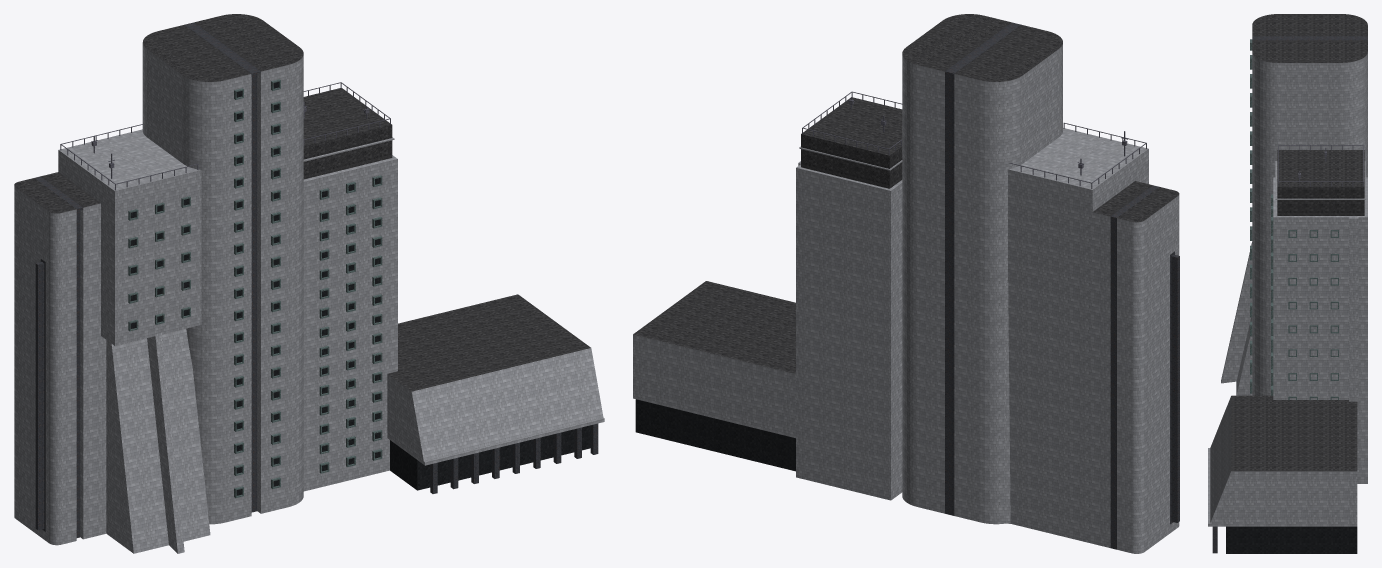
File: Edificio_Brutalista.fbx
3 views of the same model, side by side, from view 1: azimuth 30°, elevation 25°; view 2: azimuth 150°, elevation 25°; view 3: azimuth 270°, elevation 25° (orthographic). The views are drawn at different scales.
Parts seen in each view (by area): view 1: Edificio_Brutalista; view 2: Edificio_Brutalista; view 3: Edificio_Brutalista.
Boxes of the visible parts, <box> form: Edificio_Brutalista: <box>14,14,604,553</box>; Edificio_Brutalista: <box>633,14,1179,553</box>; Edificio_Brutalista: <box>1208,14,1367,553</box>.
Size of the model in its own units: 97.2 by 80.39 by 30.4.
